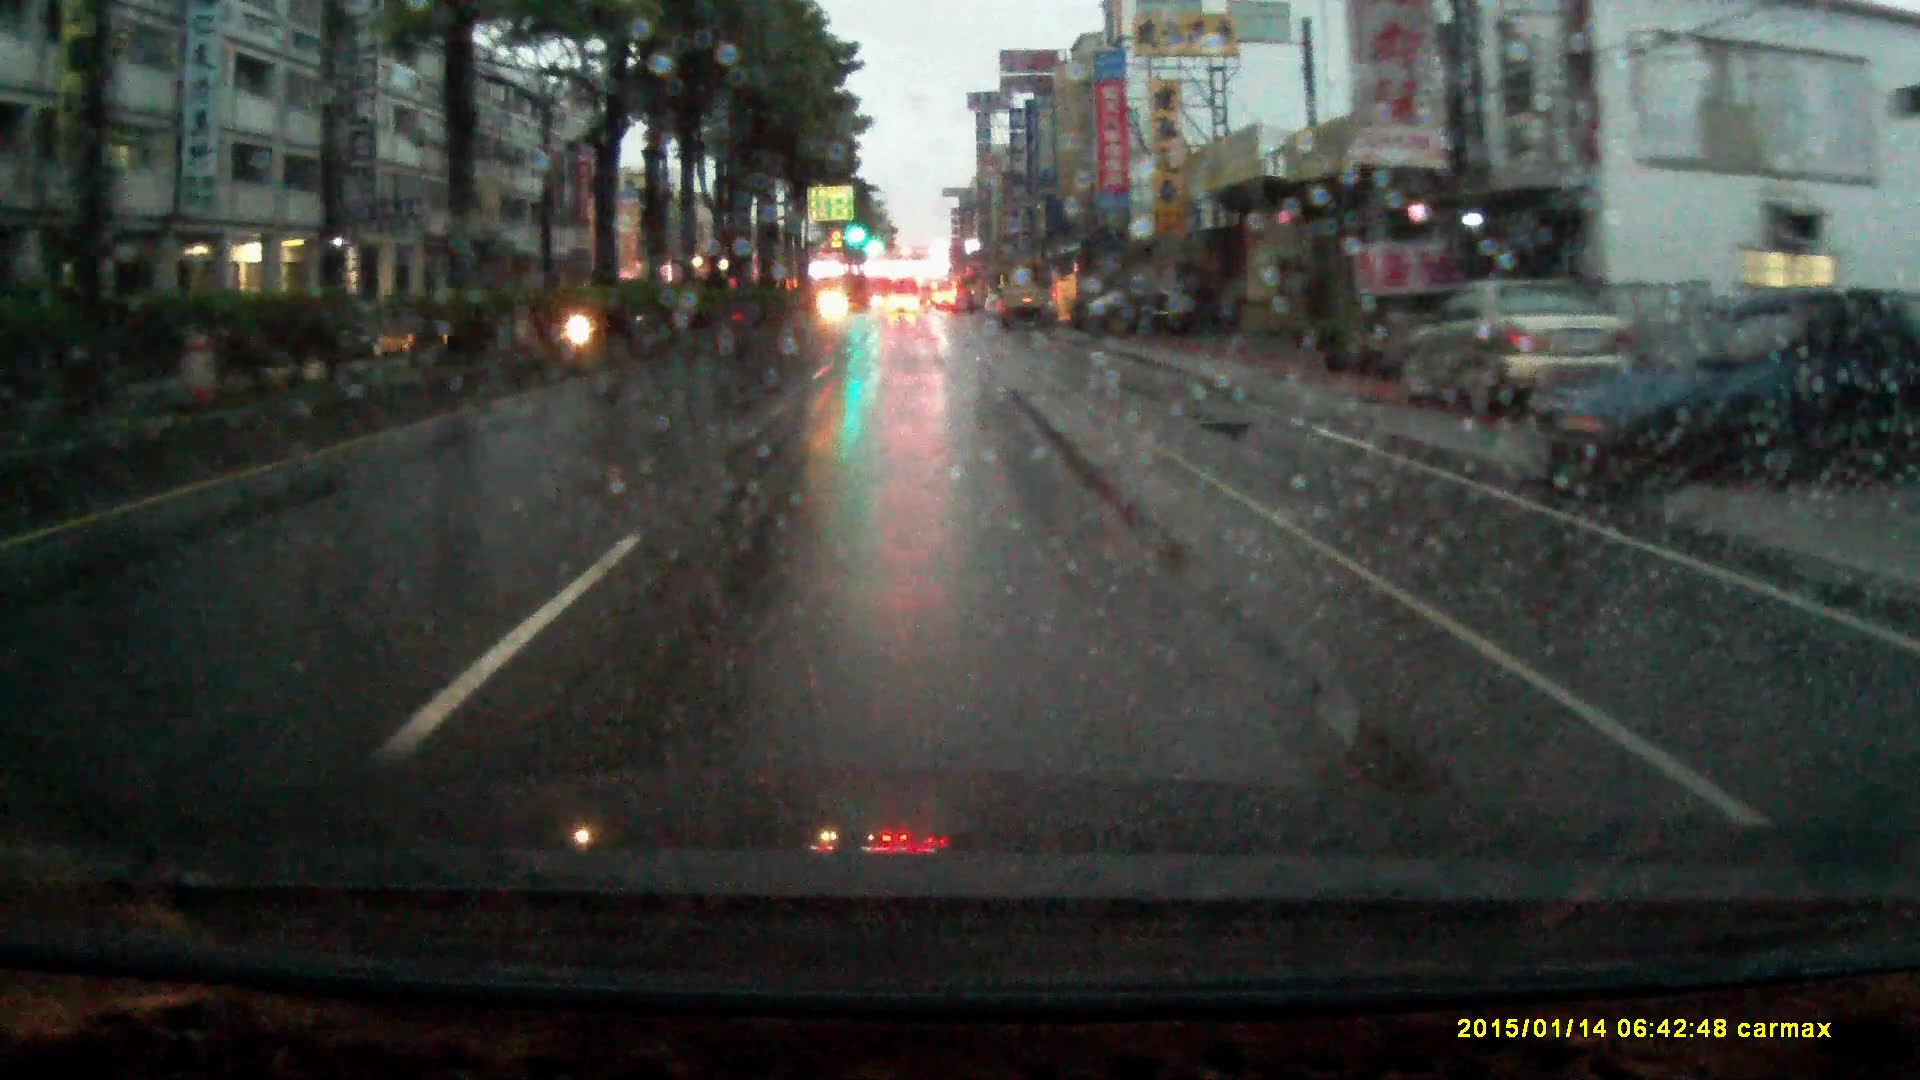vehicle: (1530, 289, 1920, 498), (1415, 282, 1633, 418), (1071, 285, 1236, 338), (997, 284, 1048, 334), (886, 295, 920, 318)
